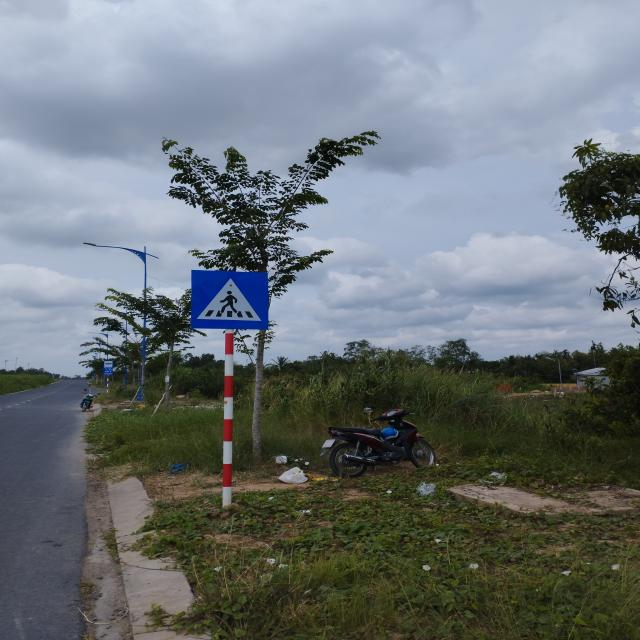Giao_Nhau_Duong_Uu_Tien: (191, 270, 269, 330)
